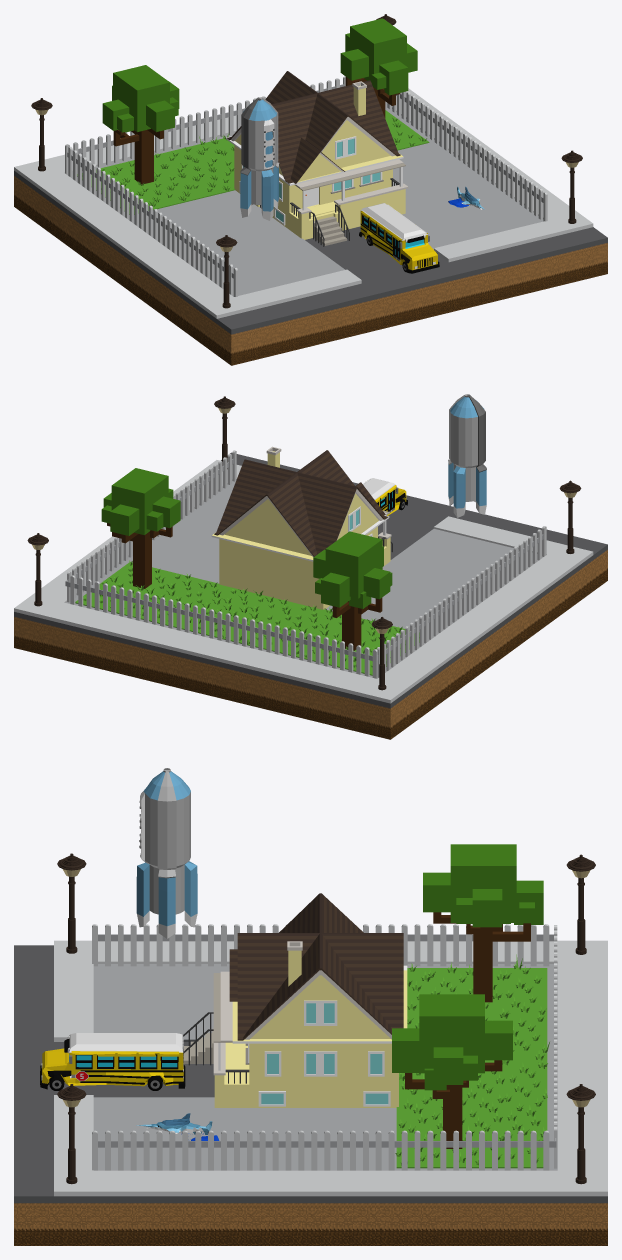
3 views of the same model, one above another, from view 1: azimuth 30°, elevation 25°; view 2: azimuth 150°, elevation 25°; view 3: azimuth 270°, elevation 25° (orthographic). The views are drawn at different scales.
Parts seen in each view (by area): view 1: Cube.004, Cube.1555, OBJRANDOM_ROCKETSHIP, VEHICLES_SCHOOL_BUS; view 2: Cube.004, Cube.1555, OBJRANDOM_ROCKETSHIP, VEHICLES_SCHOOL_BUS; view 3: Cube.004, Cube.1555, OBJRANDOM_ROCKETSHIP, VEHICLES_SCHOOL_BUS, ANIMAL_PEZ_ESPADA.
Part boxes in pixels (<box>): Cube.004: <box>14,14,607,365</box>; Cube.1555: <box>226,71,408,246</box>; OBJRANDOM_ROCKETSHIP: <box>240,97,279,220</box>; VEHICLES_SCHOOL_BUS: <box>359,203,439,273</box>; Cube.004: <box>14,396,607,739</box>; Cube.1555: <box>211,446,392,609</box>; OBJRANDOM_ROCKETSHIP: <box>448,394,486,517</box>; VEHICLES_SCHOOL_BUS: <box>363,478,407,515</box>; Cube.004: <box>14,844,607,1245</box>; Cube.1555: <box>183,893,407,1107</box>; OBJRANDOM_ROCKETSHIP: <box>136,768,197,938</box>; VEHICLES_SCHOOL_BUS: <box>40,1033,185,1090</box>; ANIMAL_PEZ_ESPADA: <box>136,1113,219,1140</box>.
Size of the model in its own units: 4000 by 2173 by 4000.
Materials: 41 (3 with a texture image).
